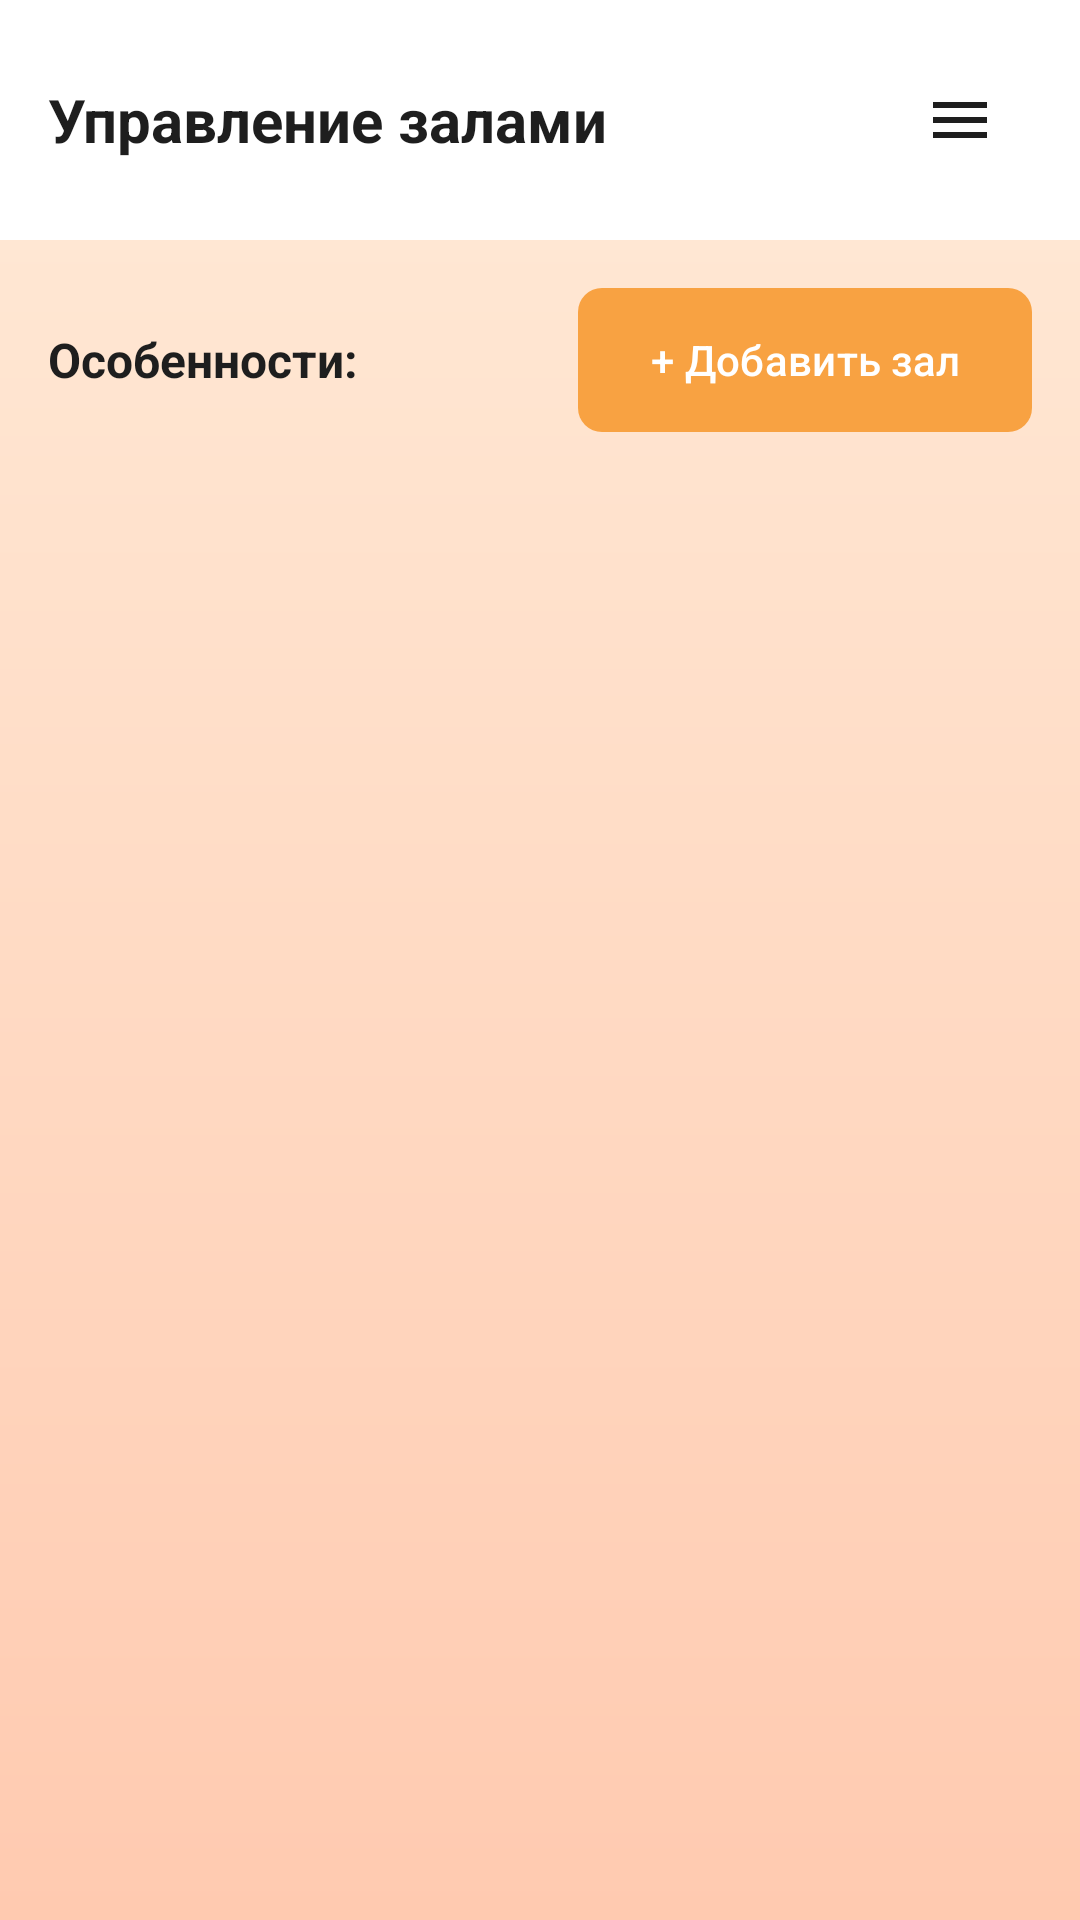

Icon bounding boxes for this 1080px×1920px phone screenshot, format {"left": x1, "top": y1, "right": x2, "bottom": y2}:
Меню: {"left": 933, "top": 102, "right": 987, "bottom": 138}
